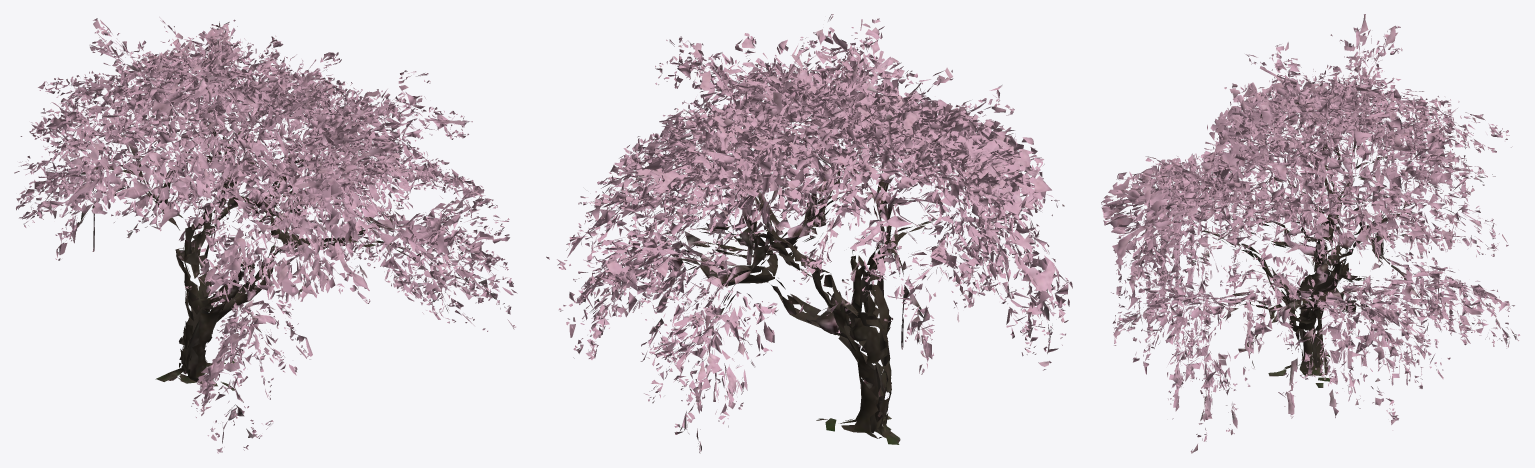
The model's file is cherry-blossom-tree.glb.
The picture shows the model from 3 angles, left to right: view 1: azimuth 30°, elevation 25°; view 2: azimuth 150°, elevation 25°; view 3: azimuth 270°, elevation 25°; orthographic projection. The views are drawn at different scales.
Bounding box in the file's own units: 1.8 × 1.42 × 1.67.
Materials: 1 (1 with a texture image).
